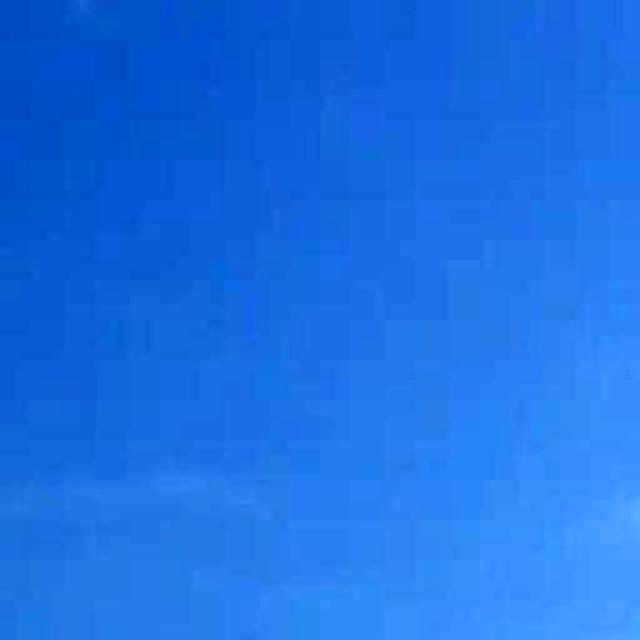drone: (224, 619, 270, 640)
